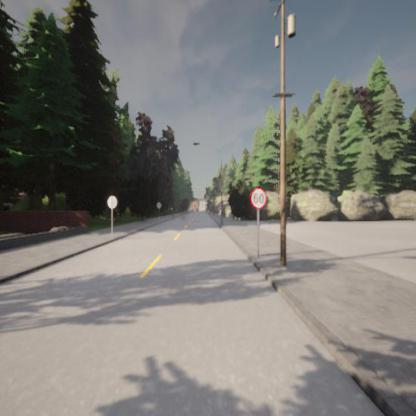traffic_sign_60: (251, 189, 268, 208)
